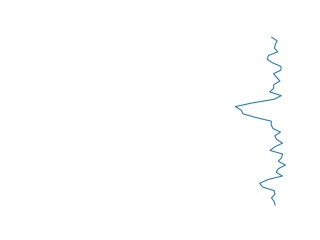interdistributaryEstuary: (232, 36, 290, 208)
